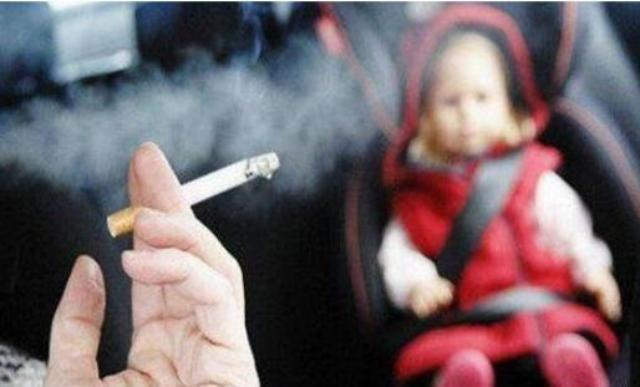Cigarette: (107, 153, 279, 239)
